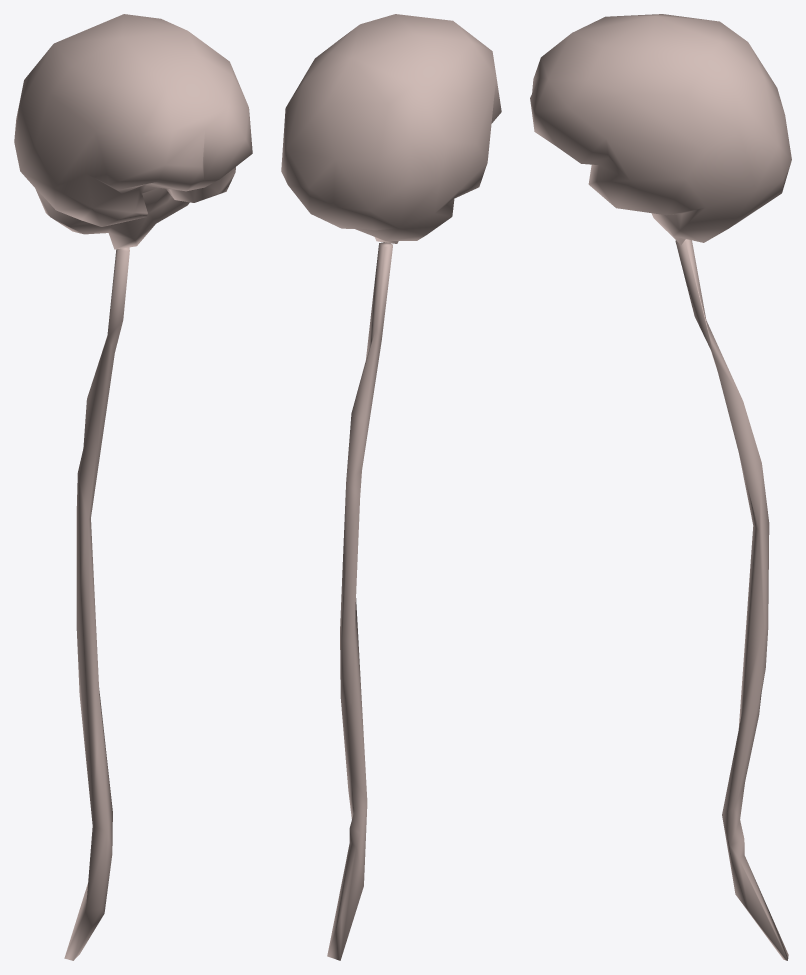
The model's file is pediatric_child_10y_male.nervous.LOD3.glb.
3 views of the same model, side by side, from view 1: azimuth 30°, elevation 25°; view 2: azimuth 150°, elevation 25°; view 3: azimuth 270°, elevation 25° (orthographic). The views are drawn at different scales.
Parts seen in each view (by area): view 1: PEDIATRIC.CHILD_10Y.MALE.NERVOUS.BRAIN, PEDIATRIC.CHILD_10Y.MALE.NERVOUS.SPINAL_CORD; view 2: PEDIATRIC.CHILD_10Y.MALE.NERVOUS.BRAIN, PEDIATRIC.CHILD_10Y.MALE.NERVOUS.SPINAL_CORD; view 3: PEDIATRIC.CHILD_10Y.MALE.NERVOUS.BRAIN, PEDIATRIC.CHILD_10Y.MALE.NERVOUS.SPINAL_CORD.
Boxes of the visible parts, x1,y1,x2,y2 form: PEDIATRIC.CHILD_10Y.MALE.NERVOUS.BRAIN: [14, 14, 252, 249]; PEDIATRIC.CHILD_10Y.MALE.NERVOUS.SPINAL_CORD: [64, 247, 129, 960]; PEDIATRIC.CHILD_10Y.MALE.NERVOUS.BRAIN: [281, 14, 501, 243]; PEDIATRIC.CHILD_10Y.MALE.NERVOUS.SPINAL_CORD: [327, 242, 392, 960]; PEDIATRIC.CHILD_10Y.MALE.NERVOUS.BRAIN: [530, 14, 791, 244]; PEDIATRIC.CHILD_10Y.MALE.NERVOUS.SPINAL_CORD: [675, 239, 788, 960].
Size of the model in its own units: 0.1335 by 0.6401 by 0.1625.
